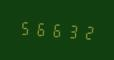five: (18, 17, 32, 38)
six: (33, 18, 47, 39), (48, 19, 62, 40)
three: (63, 20, 77, 41)
two: (78, 21, 92, 42)
